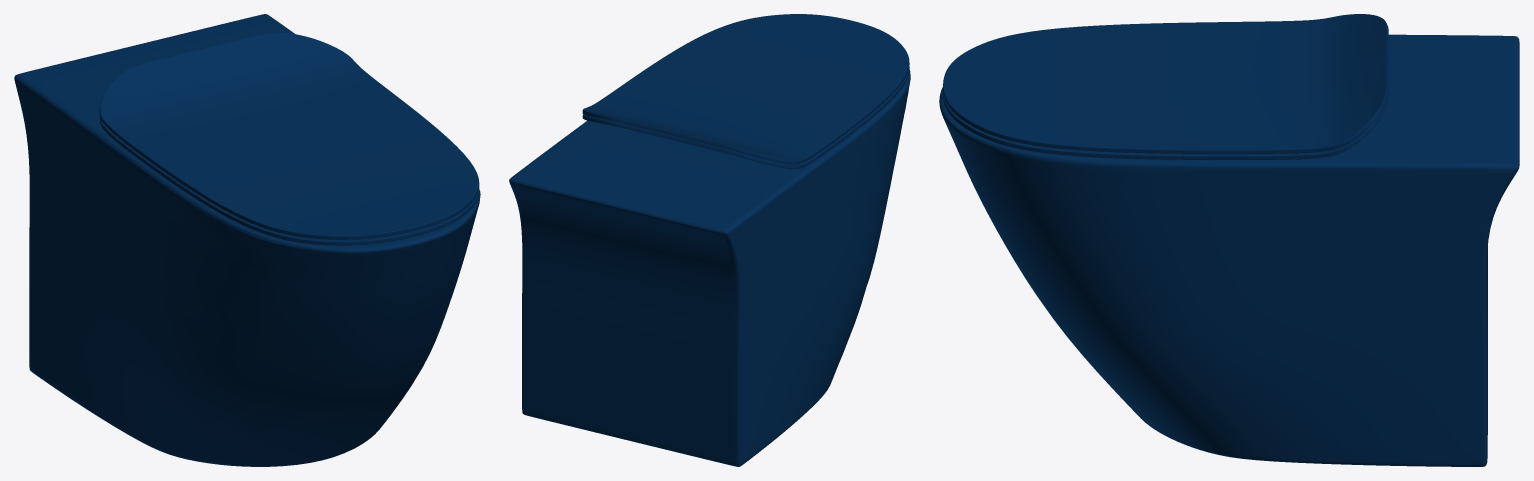
Rendered from Sanitary ware _001(Indigo).gltf.
3 views of the same model, side by side, from view 1: azimuth 30°, elevation 25°; view 2: azimuth 150°, elevation 25°; view 3: azimuth 270°, elevation 25° (orthographic). The views are drawn at different scales.
Visible parts, largest first — view 1: Sanitary ware _002; view 2: Sanitary ware _002; view 3: Sanitary ware _002.
Part boxes in pixels (bbox=[...]): Sanitary ware _002: bbox=[14, 14, 480, 466]; Sanitary ware _002: bbox=[509, 14, 910, 466]; Sanitary ware _002: bbox=[939, 14, 1519, 466].
Size of the model in its own units: 0.2978 by 0.3639 by 0.5539.
Materials: 1 (1 with a texture image).
